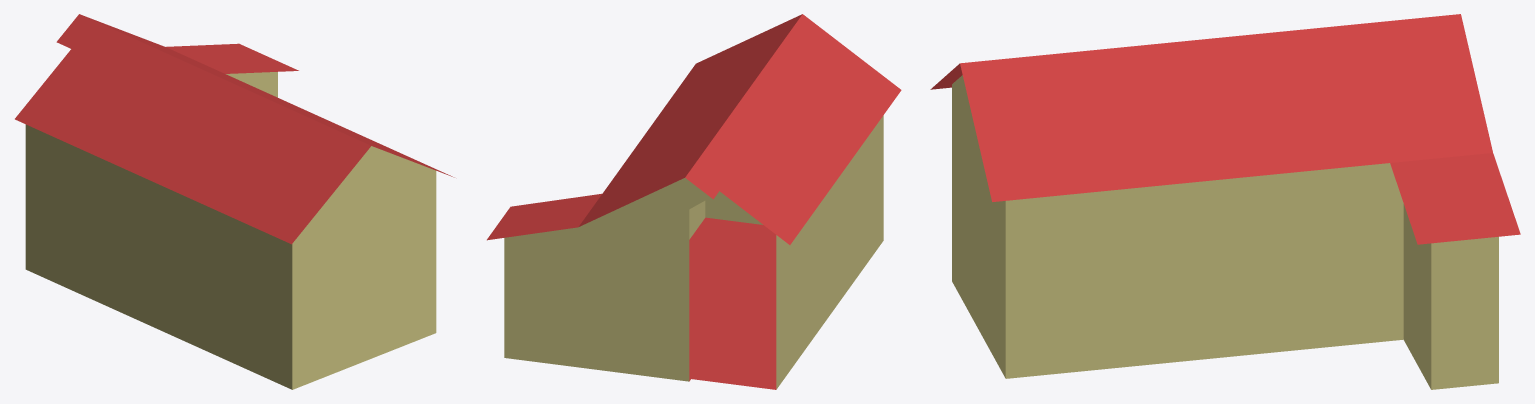
3 renders of one model, left to right at view 1: azimuth 30°, elevation 25°; view 2: azimuth 150°, elevation 25°; view 3: azimuth 270°, elevation 25°, orthographic. The views are drawn at different scales.
Bounding box in the file's own units: 11.08 × 16.24 × 8.08.
